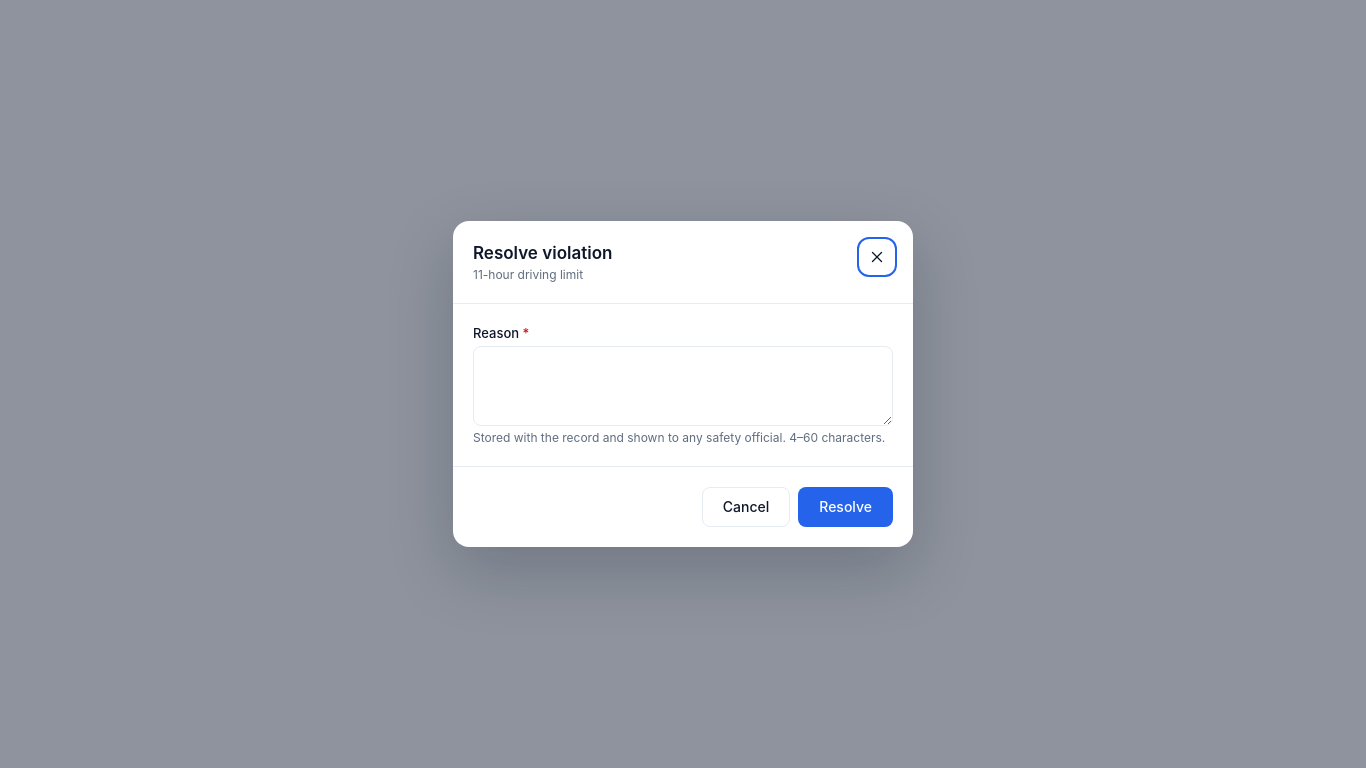
Test: ResolveViolationModal › spells out an unplaced 422 issue in the banner
Step 1. Type "Dispatcher error, corrected." into the text box → (683, 386), box [473,346,893,426]
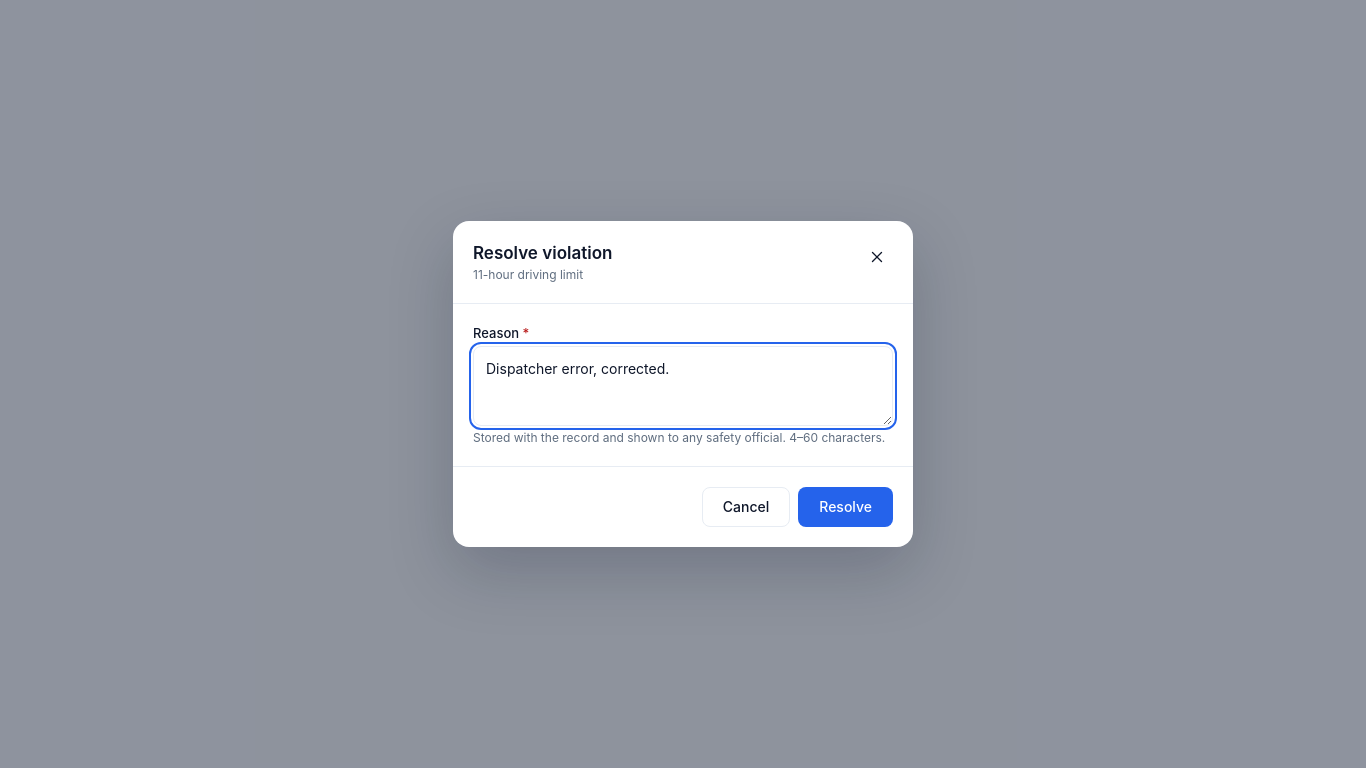
Step 2. Click the button "Resolve" → (846, 507), box [798,487,893,527]
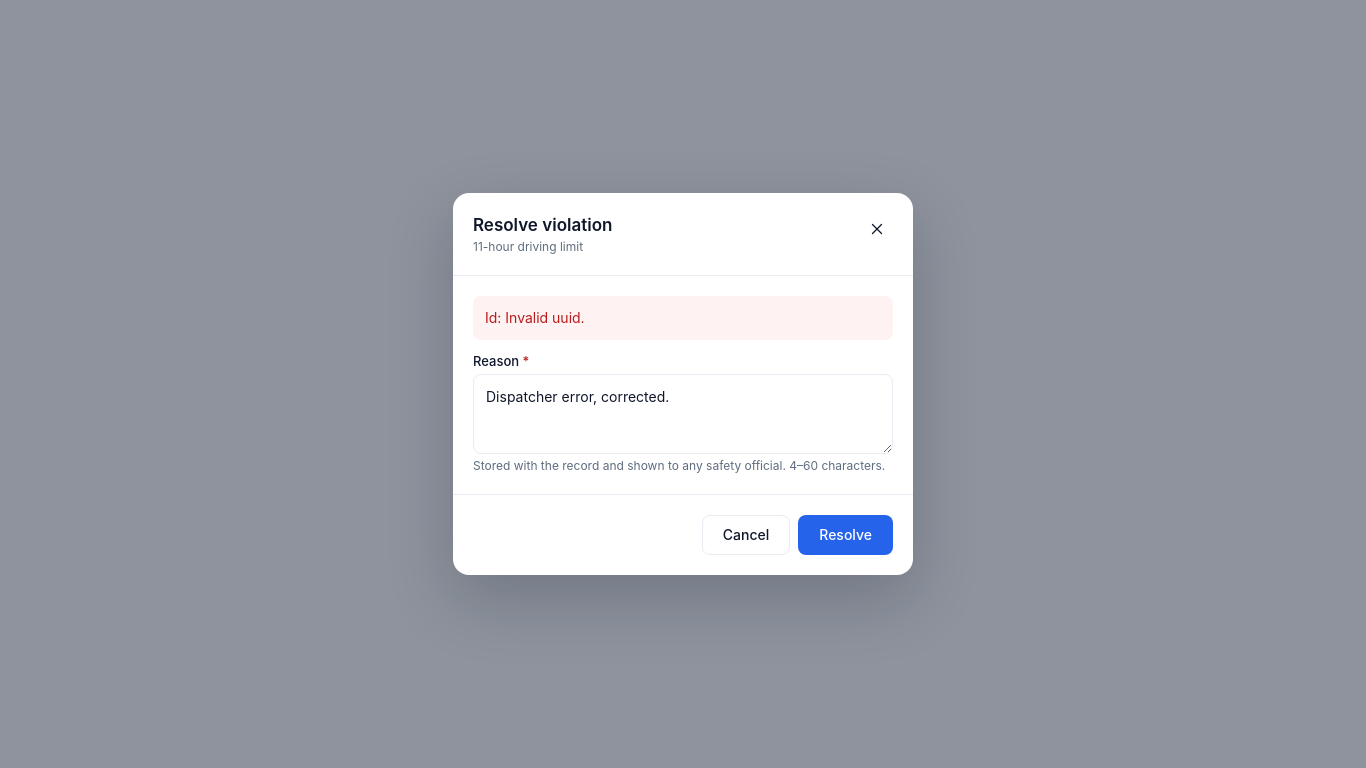
Now the message reads "Id: Invalid uuid.", box [485,309,585,326]
